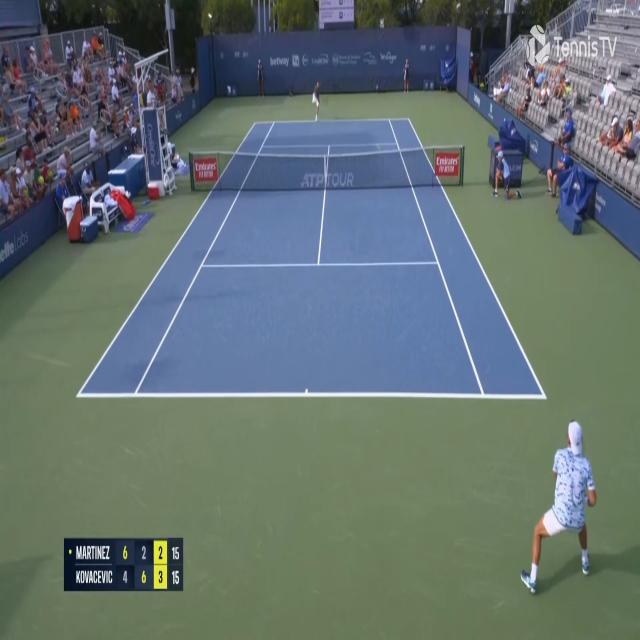tennis-player: (520, 415, 598, 598), (310, 79, 322, 122)
